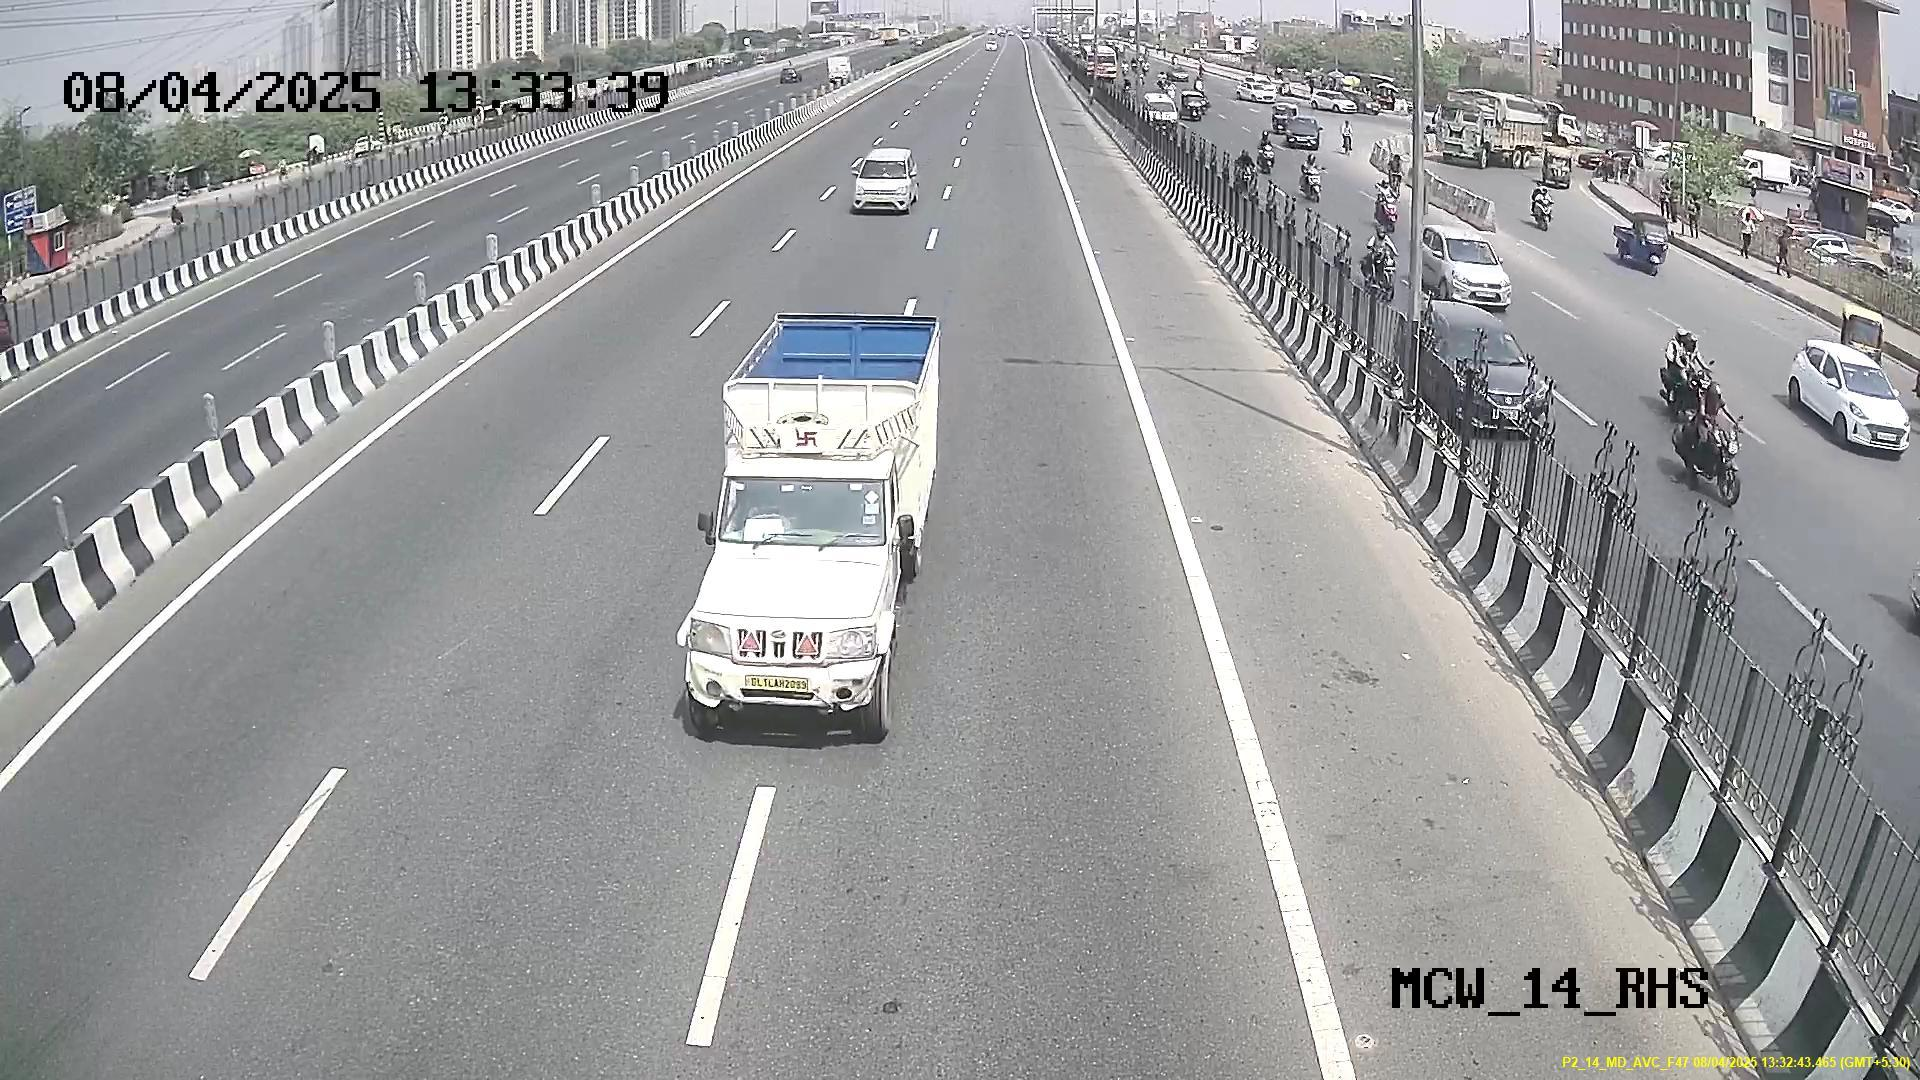car: (678, 460, 902, 740), (847, 142, 920, 218)
